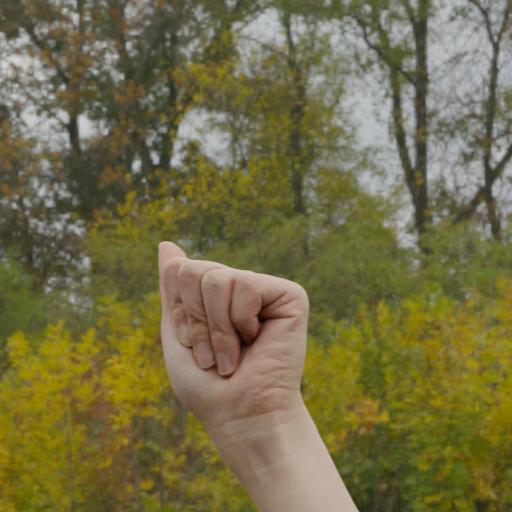A: (138, 230, 336, 452)
